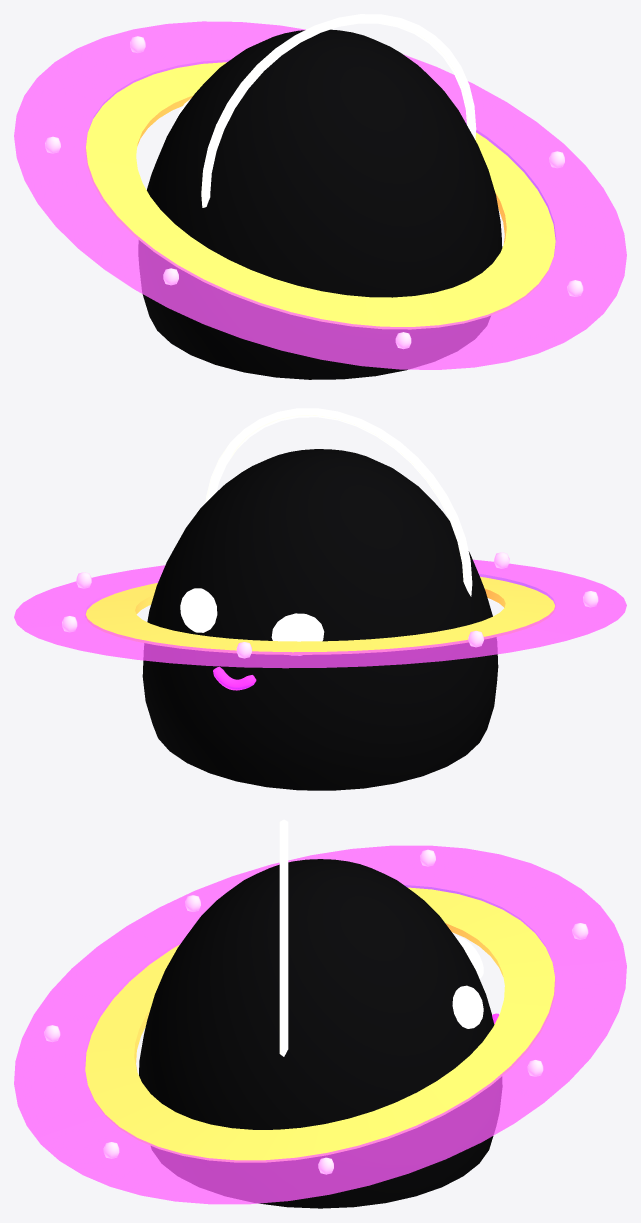
Rendered from BlackHole.glb.
The picture shows the model from 3 angles, top to bottom: view 1: azimuth 30°, elevation 25°; view 2: azimuth 150°, elevation 25°; view 3: azimuth 270°, elevation 25°; orthographic projection. The views are drawn at different scales.
Parts seen in each view (by area): view 1: Body, DiskOuter, DiskInner, PhotonRing, Debris; view 2: Body, DiskOuter, DiskInner, PhotonRing, Eyes, Debris, Mouth; view 3: Body, DiskOuter, DiskInner, PhotonRing, Debris, Eyes.
Boxes of the visible parts, <box> form: Body: <box>138,29,502,379</box>; DiskOuter: <box>14,21,626,369</box>; DiskInner: <box>85,62,555,329</box>; PhotonRing: <box>201,14,476,207</box>; Debris: <box>45,36,583,349</box>; Body: <box>142,449,498,790</box>; DiskOuter: <box>14,559,626,668</box>; DiskInner: <box>85,576,554,654</box>; PhotonRing: <box>205,408,472,596</box>; Eyes: <box>180,588,324,655</box>; Debris: <box>62,552,598,658</box>; Mouth: <box>213,666,256,690</box>; Body: <box>139,859,502,1208</box>; DiskOuter: <box>14,845,626,1204</box>; DiskInner: <box>85,887,555,1162</box>; PhotonRing: <box>279,819,288,1056</box>; Debris: <box>44,849,588,1174</box>; Eyes: <box>452,936,483,1028</box>.
Bounding box in the file's own units: 11.92 × 6.4 × 11.78.
